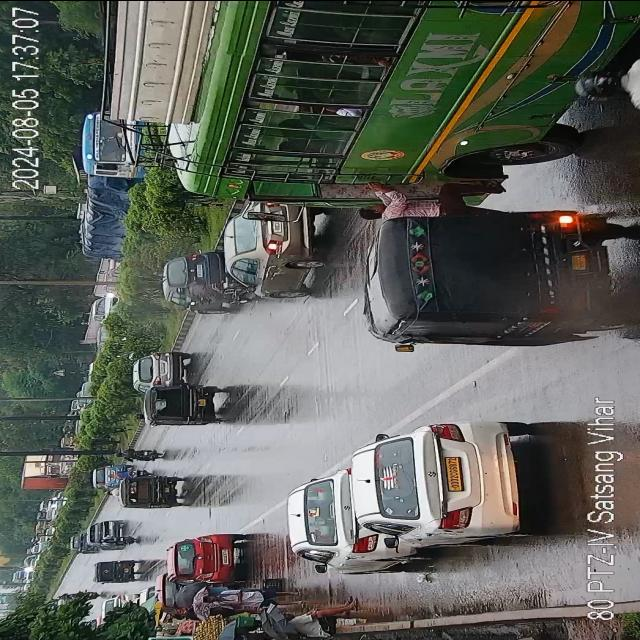2-wheelers: (562, 65, 640, 112), (180, 278, 243, 306), (118, 446, 158, 462), (103, 533, 137, 544), (70, 590, 104, 598)
auto: (366, 198, 616, 350), (156, 382, 216, 428), (126, 472, 180, 506), (97, 557, 139, 582)
bus: (221, 0, 634, 247)
car: (351, 417, 527, 555), (288, 473, 402, 569), (226, 202, 318, 292), (176, 534, 236, 582), (133, 347, 187, 390), (160, 250, 218, 278), (152, 570, 186, 614), (89, 296, 121, 322), (95, 514, 123, 542), (92, 463, 117, 489), (66, 535, 96, 553)
pedestrian: (356, 182, 502, 218), (268, 595, 356, 639), (197, 586, 294, 610)
truck: (60, 122, 150, 264), (23, 456, 77, 488)
